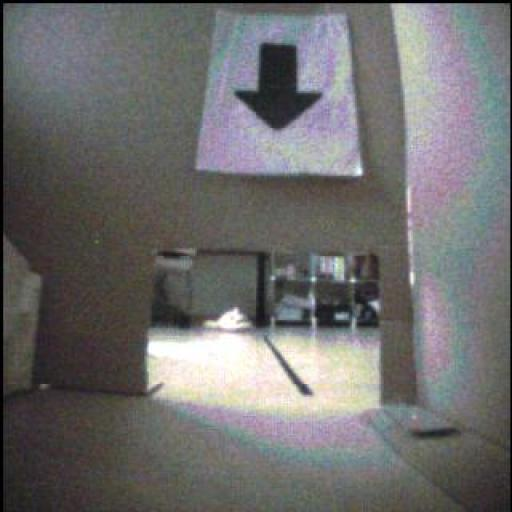arrow: (236, 44, 323, 131)
